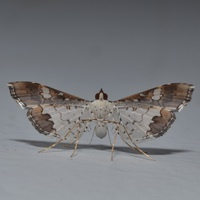insect: (8, 81, 194, 159)
